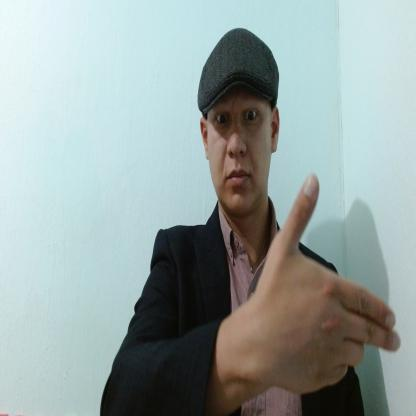H: (254, 174, 401, 392)
